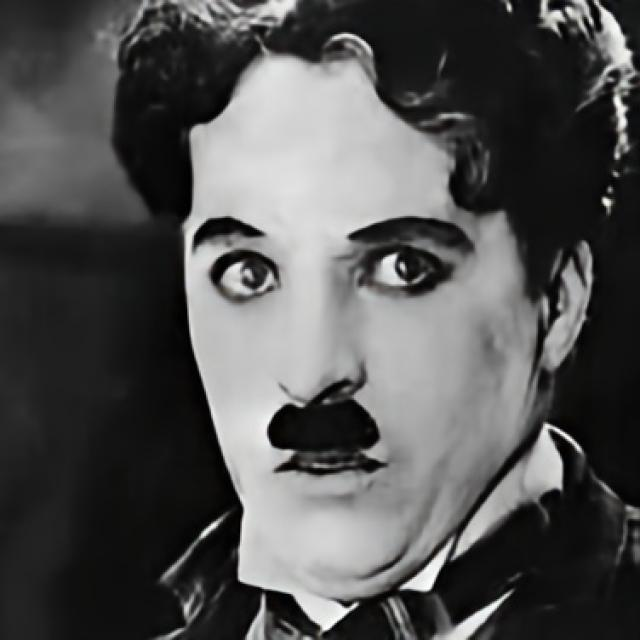fear: (177, 42, 540, 580)
